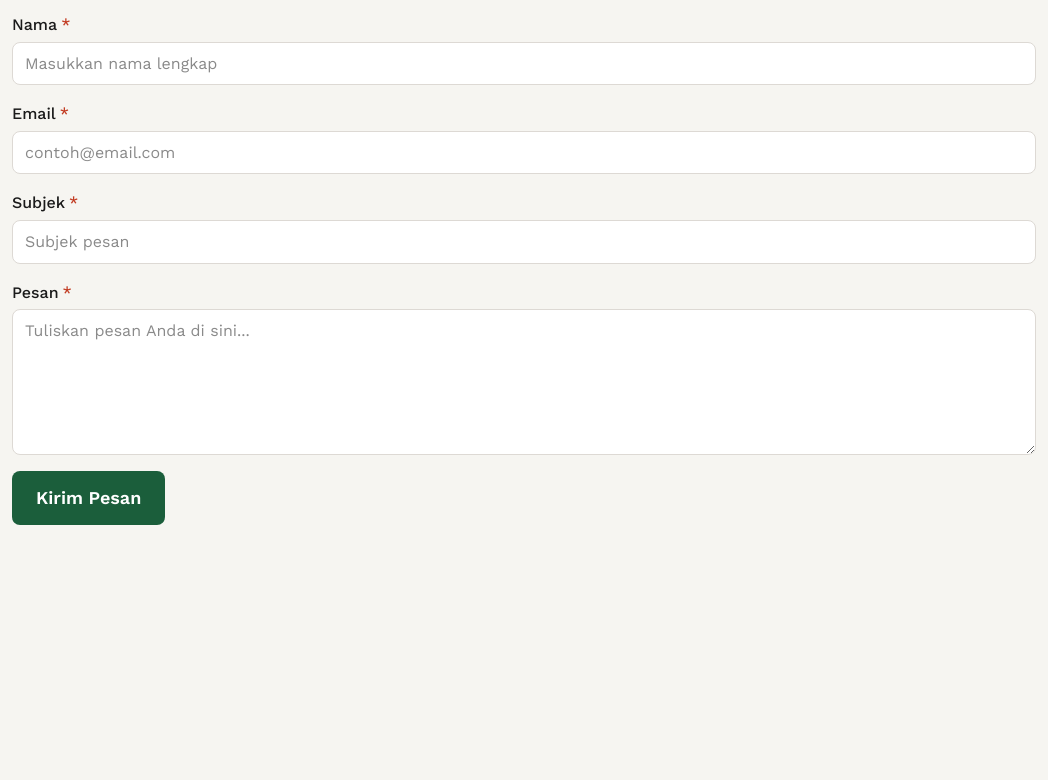
Scenario: ContactForm Component › shows error for empty subject on blur
The width and height of the screenshot is (1048, 780).
Click the field labelled "Subjek*" at (524, 242), box [12,220,1036,264]
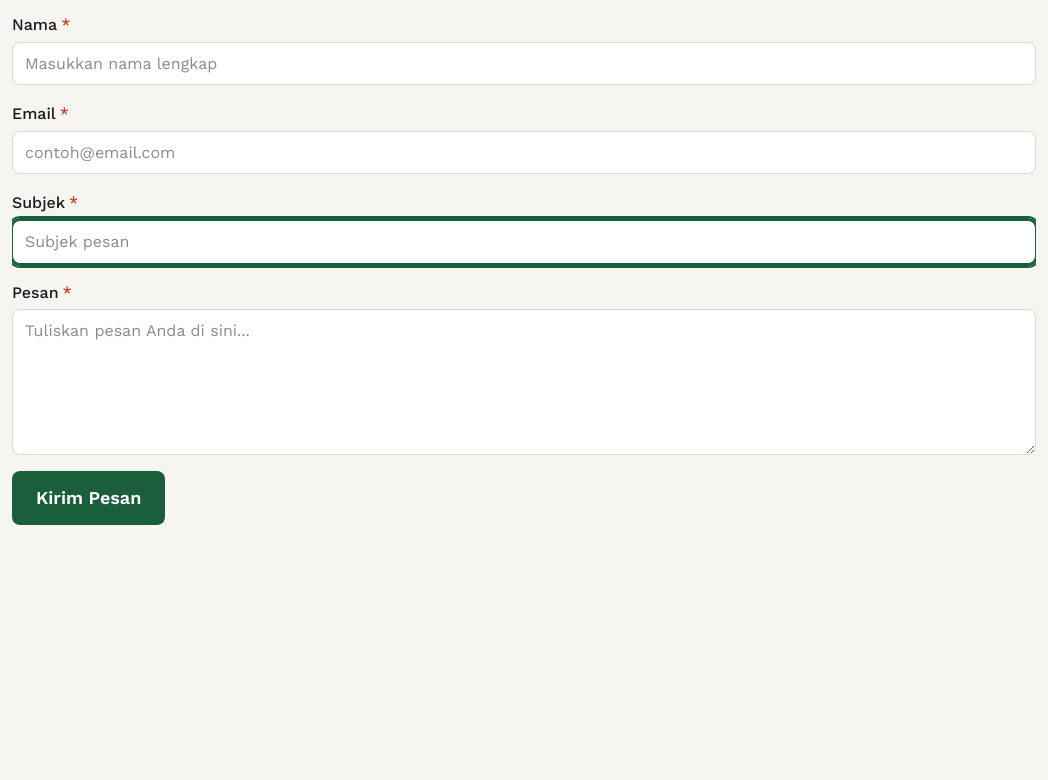
Press Tab
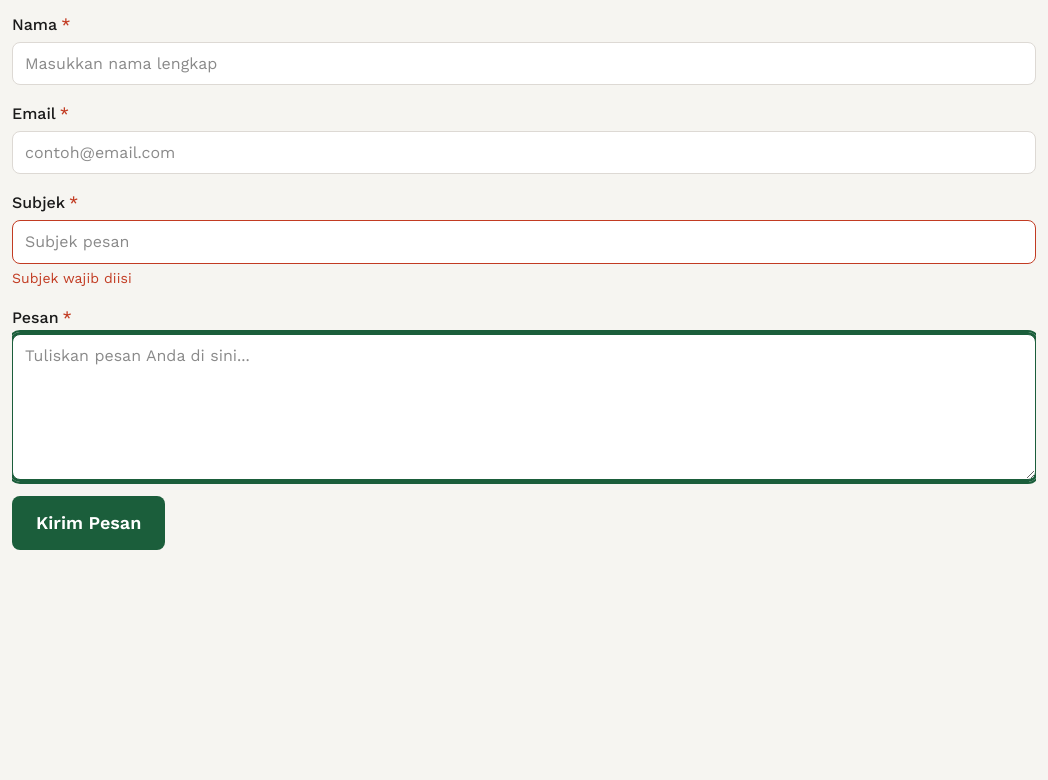
Now the text "Subjek wajib diisi" is shown, box [12,270,132,286]
